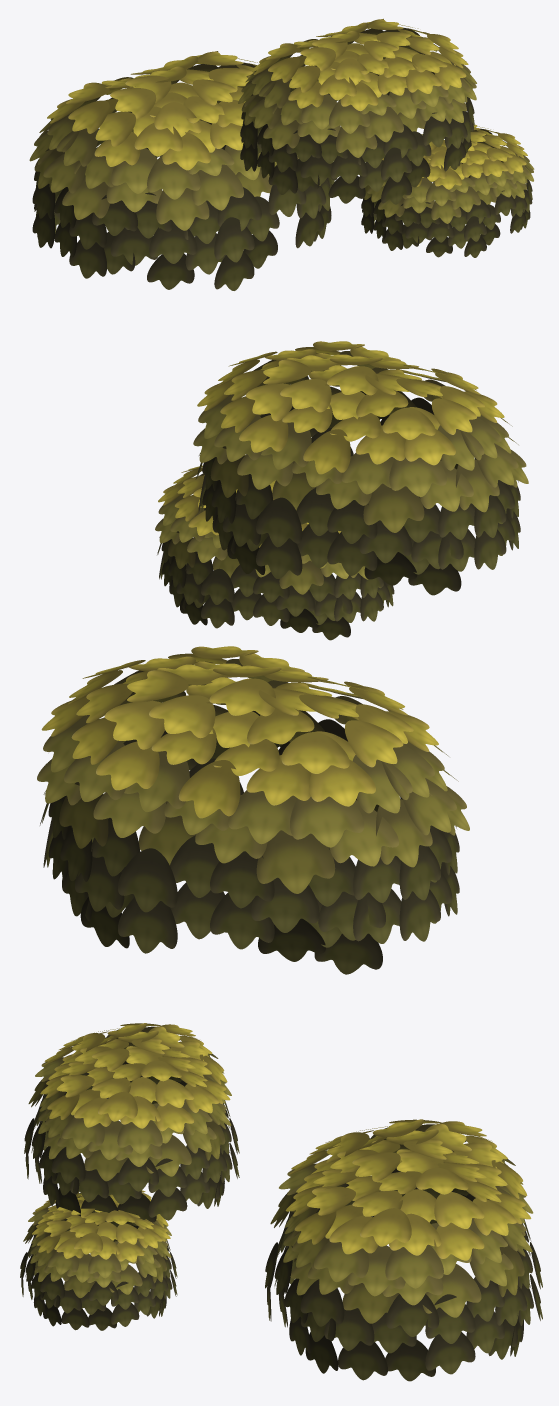
Rendered from arbol amarillo pequeño 2 hojas.fbx.
The picture shows the model from 3 angles, top to bottom: view 1: azimuth 30°, elevation 25°; view 2: azimuth 150°, elevation 25°; view 3: azimuth 270°, elevation 25°; orthographic projection. The views are drawn at different scales.
Visible parts, largest first — view 1: Object5662, Object5651, Object5672, Object5692, Object5691, Object5660, Object5650, Object5771, Object5760, Object5727, Object5718, Object5707 (+101 smaller); view 2: Object5656, Object5686, Object5646, Object5712, Object5645, Object5756, Object5694, Object5683, Object5657, Object5713, Object5654, Object5742 (+92 smaller); view 3: Object5640, Object5669, Object5688, Object5638, Object5764, Object5724, Object5730, Object5766, Object5689, Object5639, Object5715, Object5768 (+83 smaller).
Part boxes in pixels (x1,y1,x2,y2): Object5662: (191, 164, 243, 210); Object5651: (147, 155, 200, 199); Object5672: (156, 188, 209, 230); Object5692: (149, 221, 197, 263); Object5691: (214, 217, 254, 262); Object5660: (62, 177, 109, 219); Object5650: (111, 148, 157, 193); Object5771: (110, 227, 157, 265); Object5760: (147, 253, 194, 289); Object5727: (154, 102, 201, 136); Object5718: (134, 123, 182, 156); Object5707: (162, 132, 210, 170); Object5656: (256, 830, 335, 893); Object5686: (118, 848, 177, 912); Object5646: (290, 796, 364, 847); Object5712: (178, 760, 240, 818); Object5645: (228, 790, 296, 844); Object5756: (118, 897, 177, 953); Object5694: (251, 877, 319, 932); Object5683: (210, 851, 274, 908); Object5657: (329, 800, 398, 866); Object5713: (96, 741, 159, 790); Object5654: (93, 792, 166, 837); Object5742: (149, 695, 215, 738); Object5640: (385, 1244, 443, 1288); Object5669: (422, 1264, 481, 1317); Object5688: (386, 1293, 439, 1336); Object5638: (314, 1241, 368, 1282); Object5764: (425, 1332, 475, 1374); Object5724: (360, 1208, 411, 1246); Object5730: (434, 1191, 484, 1228); Object5766: (338, 1341, 387, 1380); Object5689: (300, 1279, 344, 1326); Object5639: (347, 1245, 405, 1296); Object5715: (434, 1222, 484, 1260); Object5768: (385, 1340, 435, 1381).
Bounding box in the file's own units: 470 × 377 × 560.
